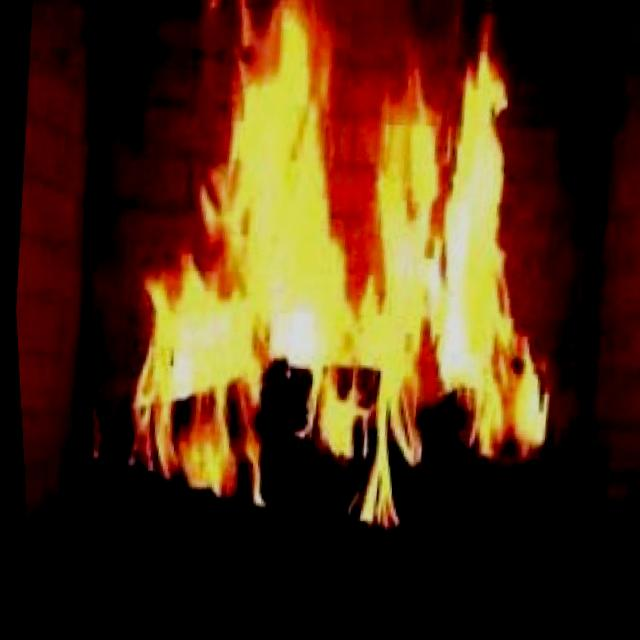Fire: (52, 0, 600, 574)
